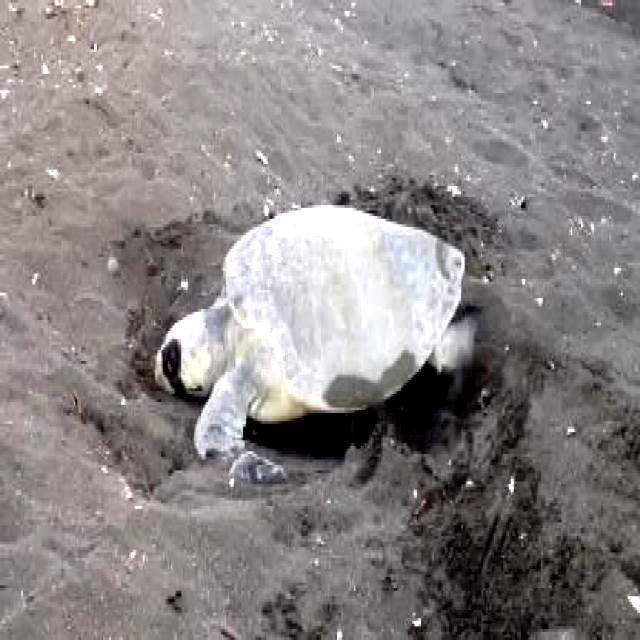Sea turtle: (150, 195, 482, 467)
